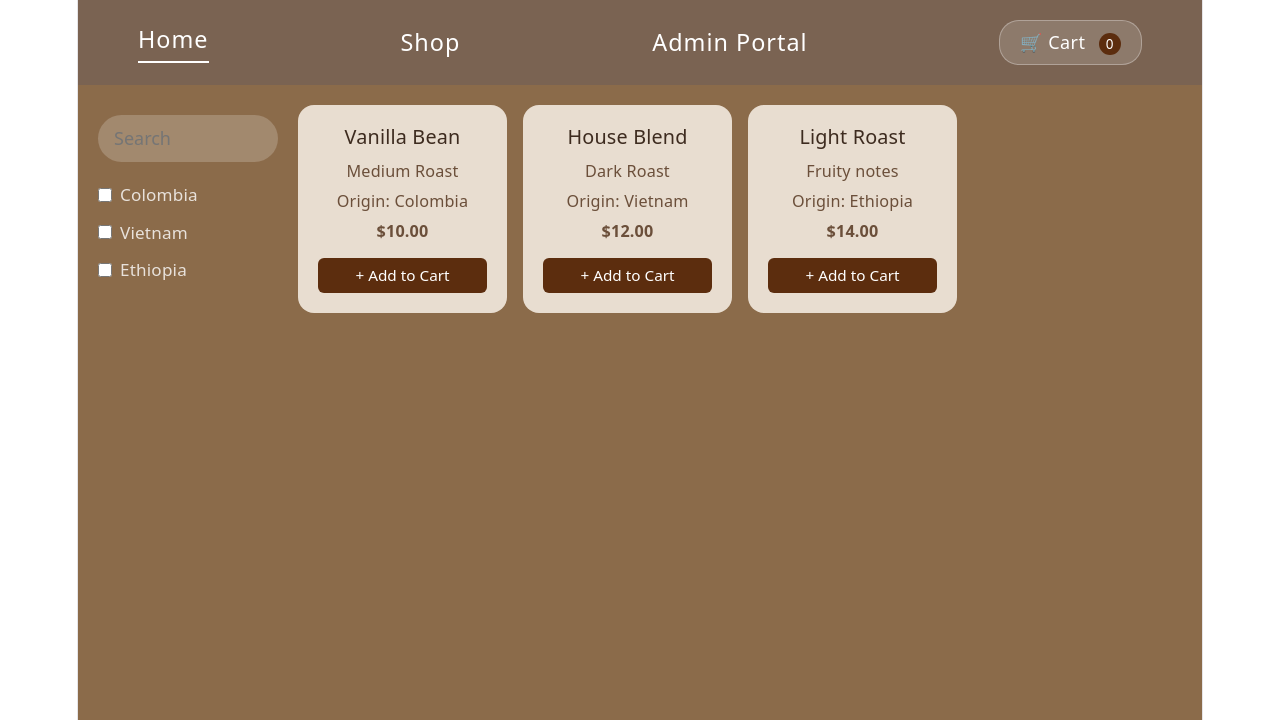
Test: Shop › filters products by origin checkbox
The width and height of the screenshot is (1280, 720).
Click the text "Colombia". click: (148, 194)
box: [98,183,198,206]
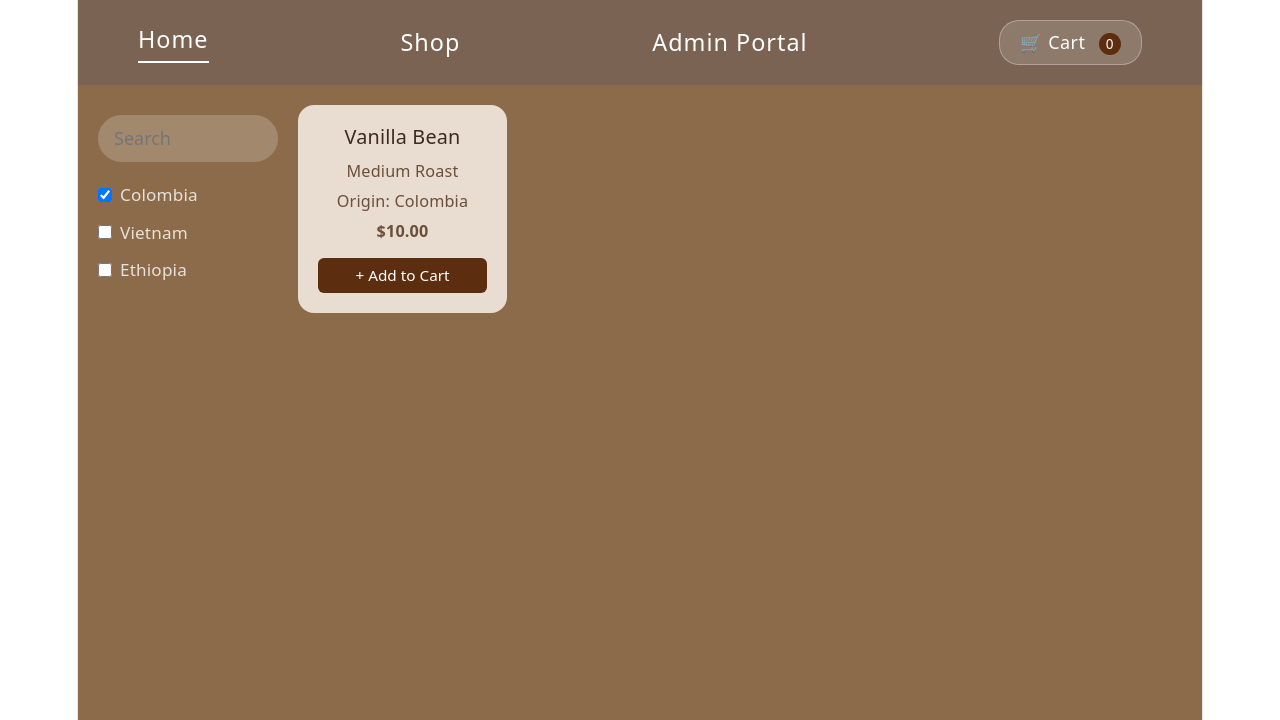
Expected: the heading "Vanilla Bean" is shown, [345,123,460,150]
Expected: the heading "House Blend" is gone
